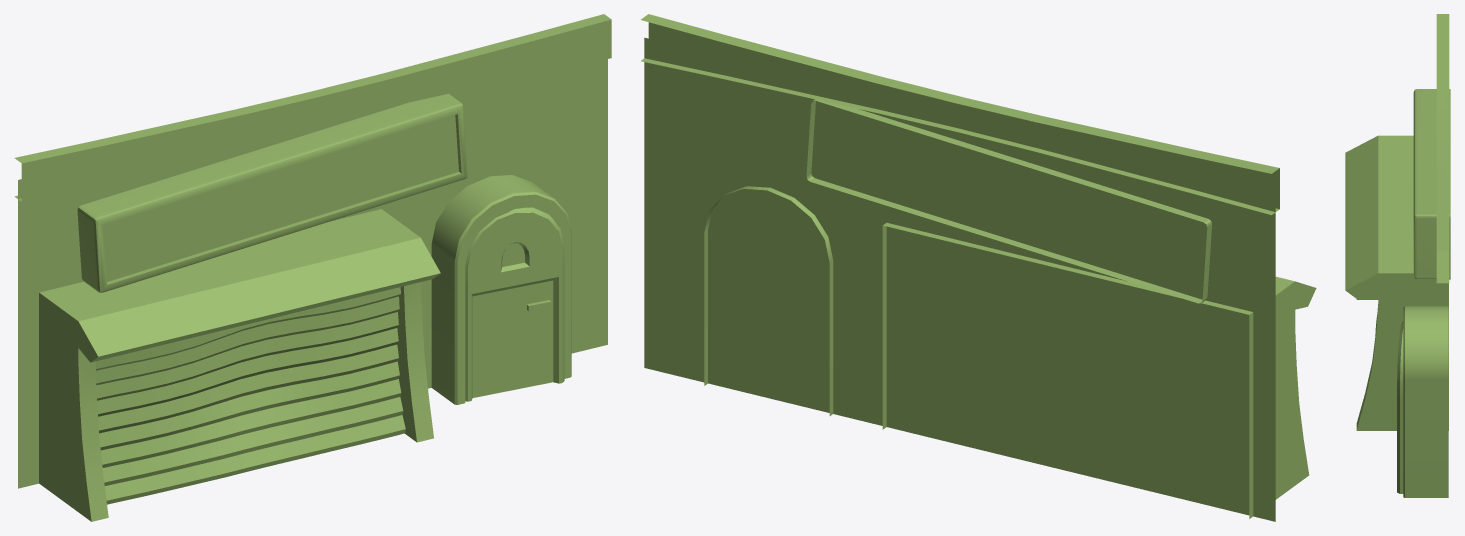
File: Extended_Door.fbx
3 views of the same model, side by side, from view 1: azimuth 30°, elevation 25°; view 2: azimuth 150°, elevation 25°; view 3: azimuth 270°, elevation 25° (orthographic). The views are drawn at different scales.
Visible parts, largest first — view 1: Extended_Door; view 2: Extended_Door; view 3: Extended_Door.
Part boxes in pixels (bbox=[...]): Extended_Door: bbox=[14, 14, 611, 521]; Extended_Door: bbox=[641, 14, 1316, 521]; Extended_Door: bbox=[1345, 14, 1450, 497].
Size of the model in its own units: 8 by 4.27 by 1.5.
